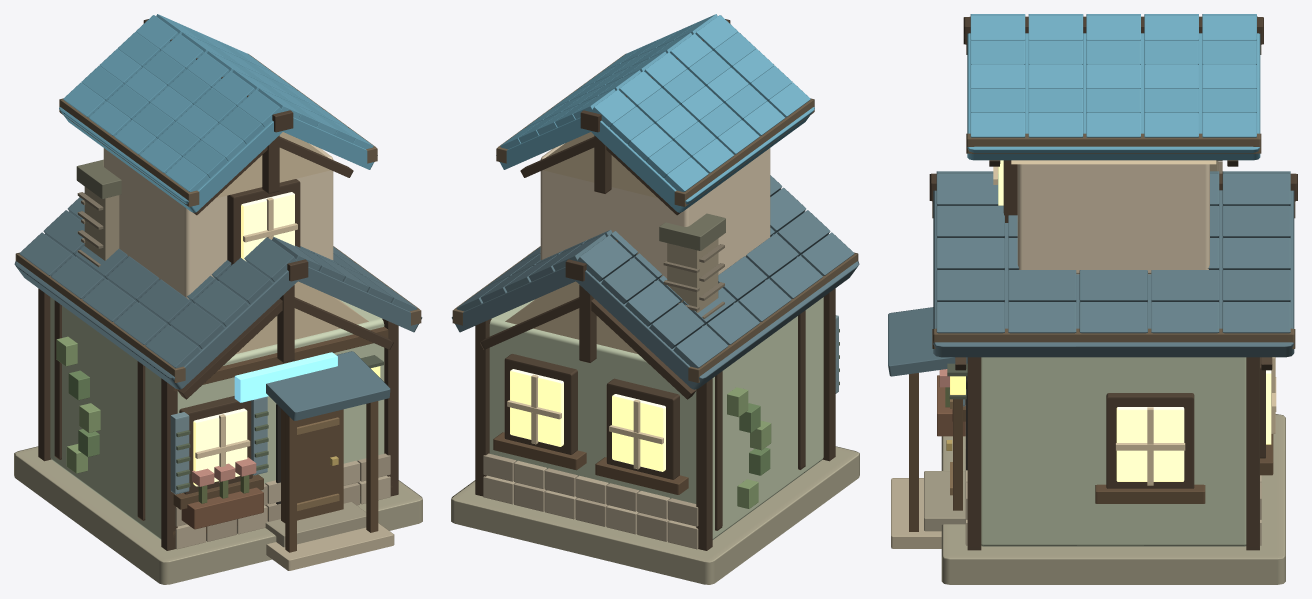
The model's file is workshop-1-2.glb.
3 views of the same model, side by side, from view 1: azimuth 30°, elevation 25°; view 2: azimuth 150°, elevation 25°; view 3: azimuth 270°, elevation 25° (orthographic). The views are drawn at different scales.
Visible parts, largest first — view 1: workshop-2-1, door-hinge; view 2: workshop-2-1; view 3: workshop-2-1, door-hinge.
Boxes of the visible parts, x1=… form: workshop-2-1: x1=14, y1=14, x2=422, y2=584; door-hinge: x1=281, y1=408, x2=343, y2=522; workshop-2-1: x1=451, y1=14, x2=859, y2=584; workshop-2-1: x1=888, y1=14, x2=1297, y2=584; door-hinge: x1=946, y1=399, x2=962, y2=510.
Bounding box in the file's own units: 1.88 × 3 × 2.24.
